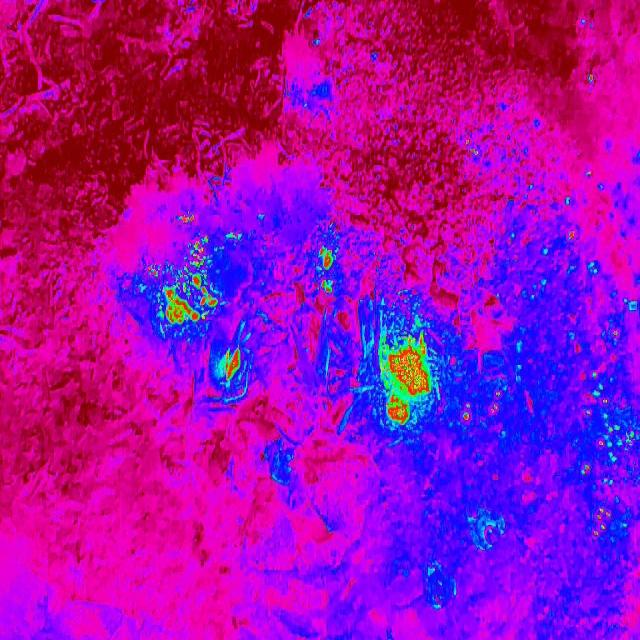fire: (561, 227, 640, 545), (374, 330, 444, 430), (154, 236, 220, 332), (457, 388, 506, 430), (310, 246, 339, 294), (216, 346, 242, 386), (172, 209, 197, 227)
